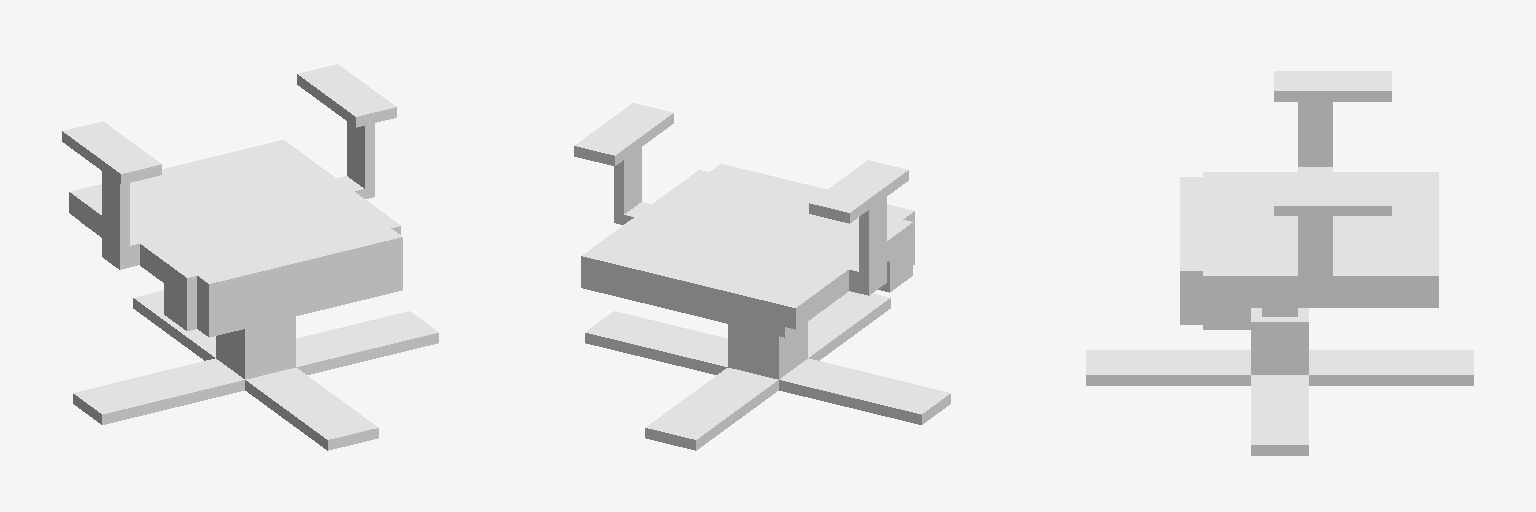
Rendered from chair_body.obj.
3 views of the same model, side by side, from view 1: azimuth 30°, elevation 25°; view 2: azimuth 150°, elevation 25°; view 3: azimuth 270°, elevation 25° (orthographic).
Parts seen in each view (by area): view 1: object 1; view 2: object 1; view 3: object 1.
Part boxes in pixels (x1,y1,x2,y2): object 1: (62, 64, 438, 450); object 1: (574, 103, 950, 450); object 1: (1086, 71, 1473, 455).
Size of the model in its own units: 3.3 by 2.2 by 3.3.